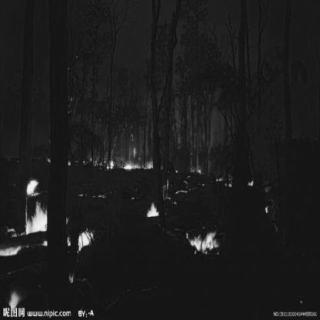Fire: (184, 226, 220, 256), (3, 237, 46, 257), (145, 197, 161, 219)
